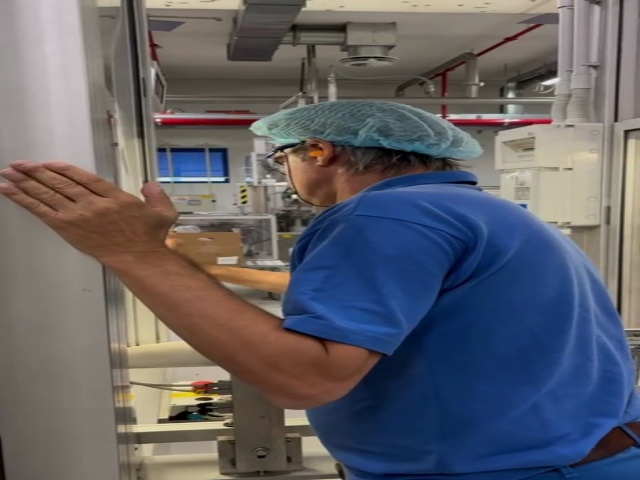Earplug: (305, 140, 332, 168)
Hairnet: (249, 101, 482, 159)
No_Helmet: (250, 102, 481, 160)
No_Vest: (297, 182, 628, 470)
Person: (4, 101, 640, 480)
Safety_Goggles: (267, 139, 309, 167)
